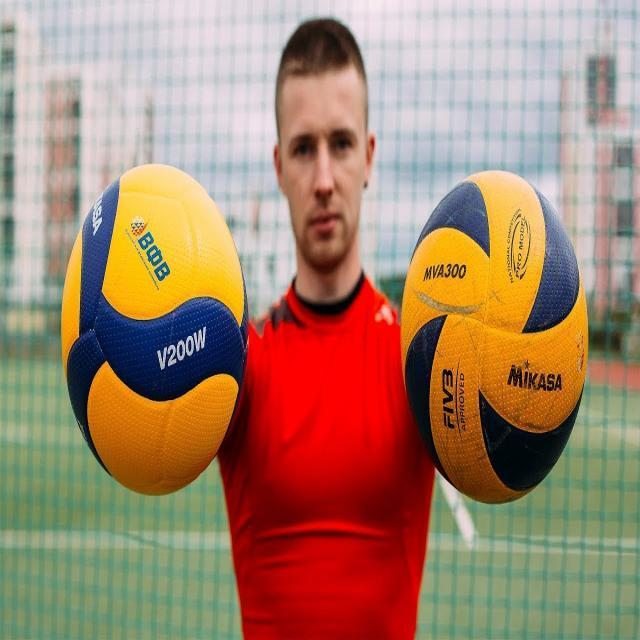volleyball: (400, 170, 589, 504), (61, 163, 250, 496)
